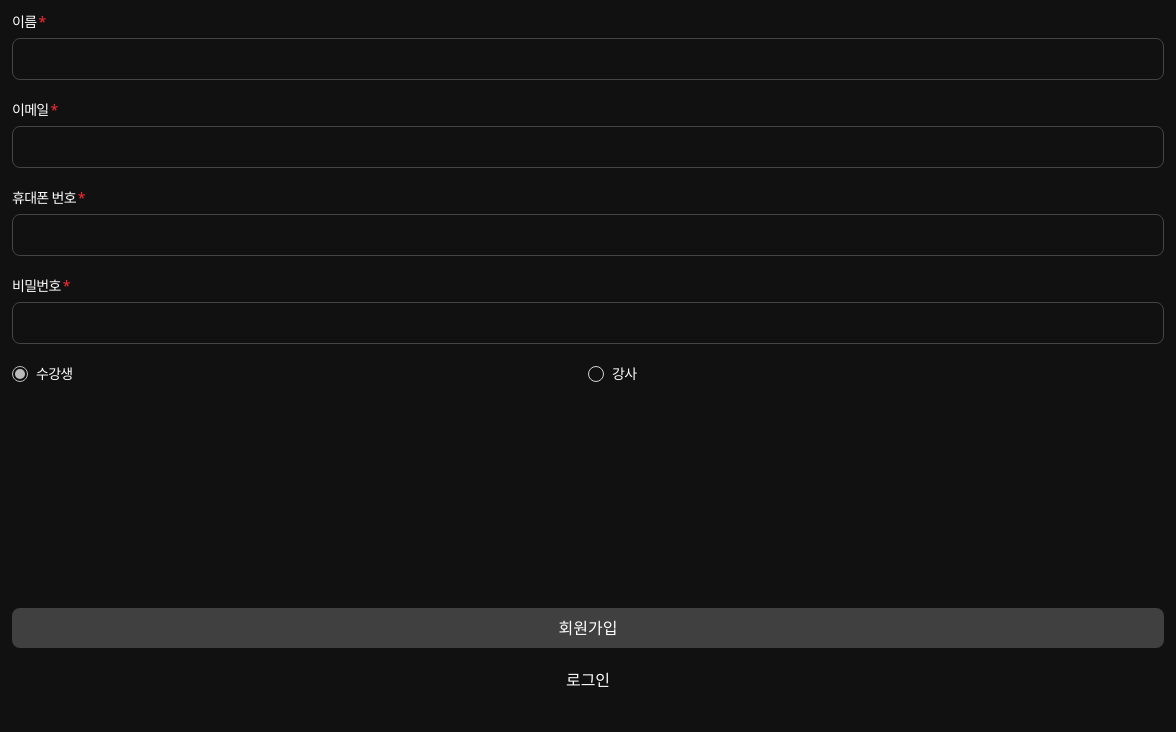
Test: 시나리오 2: 회원가입 (/signup) › 유효성 검사 › 이메일 형식이 올바르지 않으면 에러 메시지를 보여준다
Type "홍길동" into the field labelled "이름*".
click(588, 59); type("홍길동")  # box [12,38,1164,80]
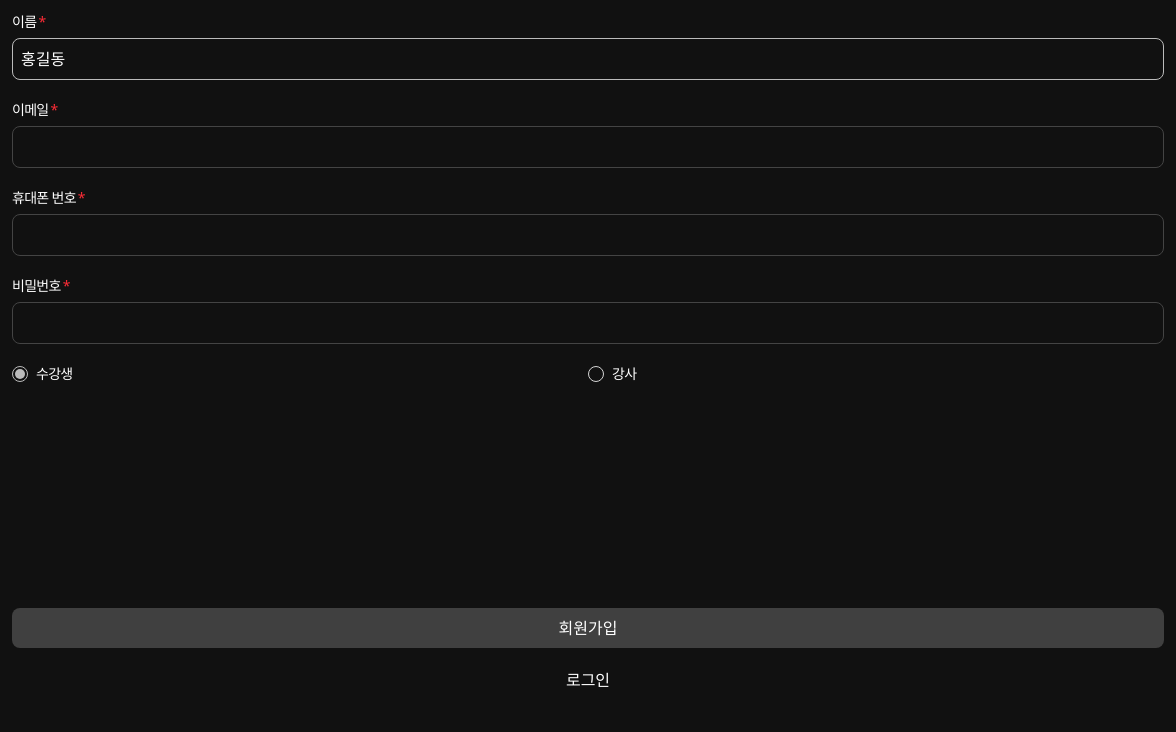
Type "invalid" into the field labelled "이메일*".
click(588, 147); type("invalid")  # box [12,126,1164,168]
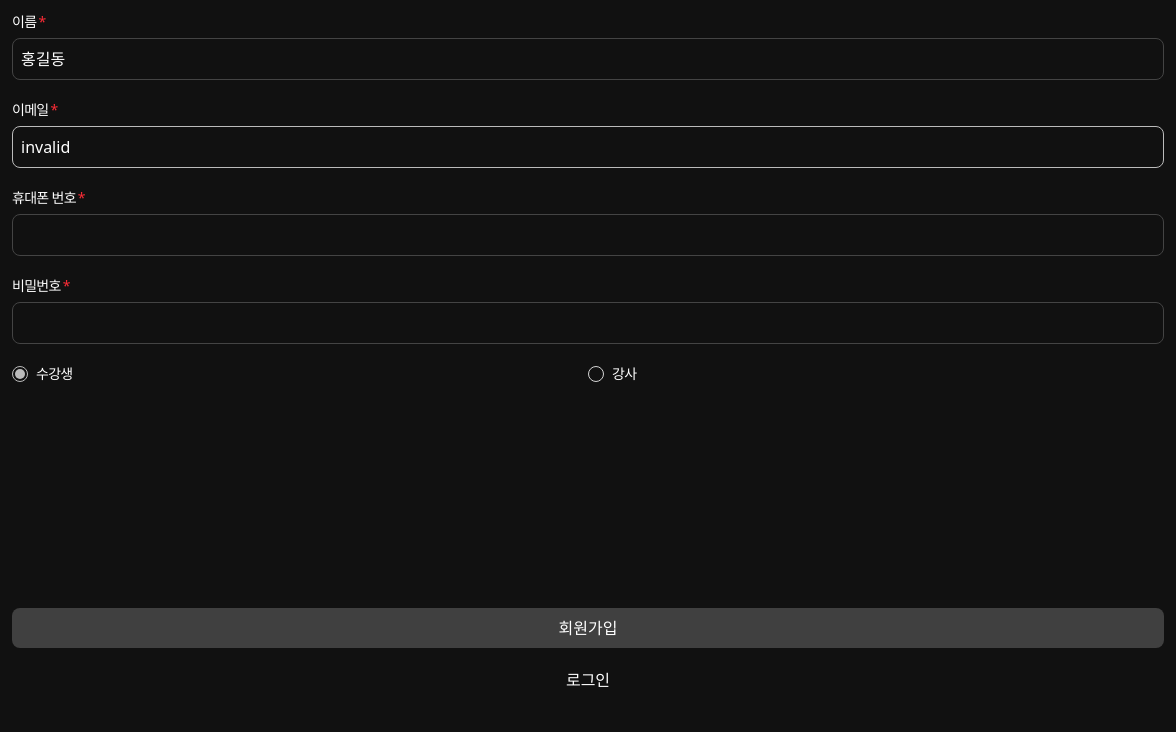
Type "010-1234-5678" into the field labelled "휴대폰 번호*".
click(588, 235); type("010-1234-5678")  # box [12,214,1164,256]
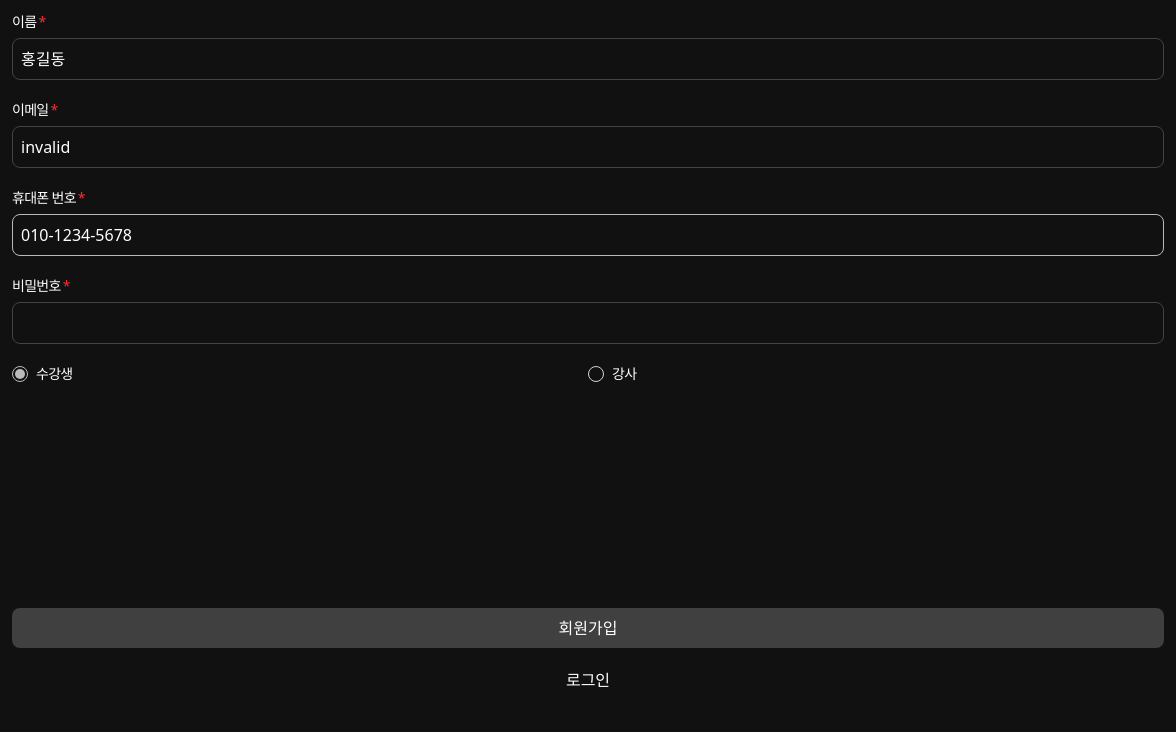
Type "pass1word" into the password field labelled "비밀번호*".
click(588, 323); type("pass1word")  # box [12,302,1164,344]
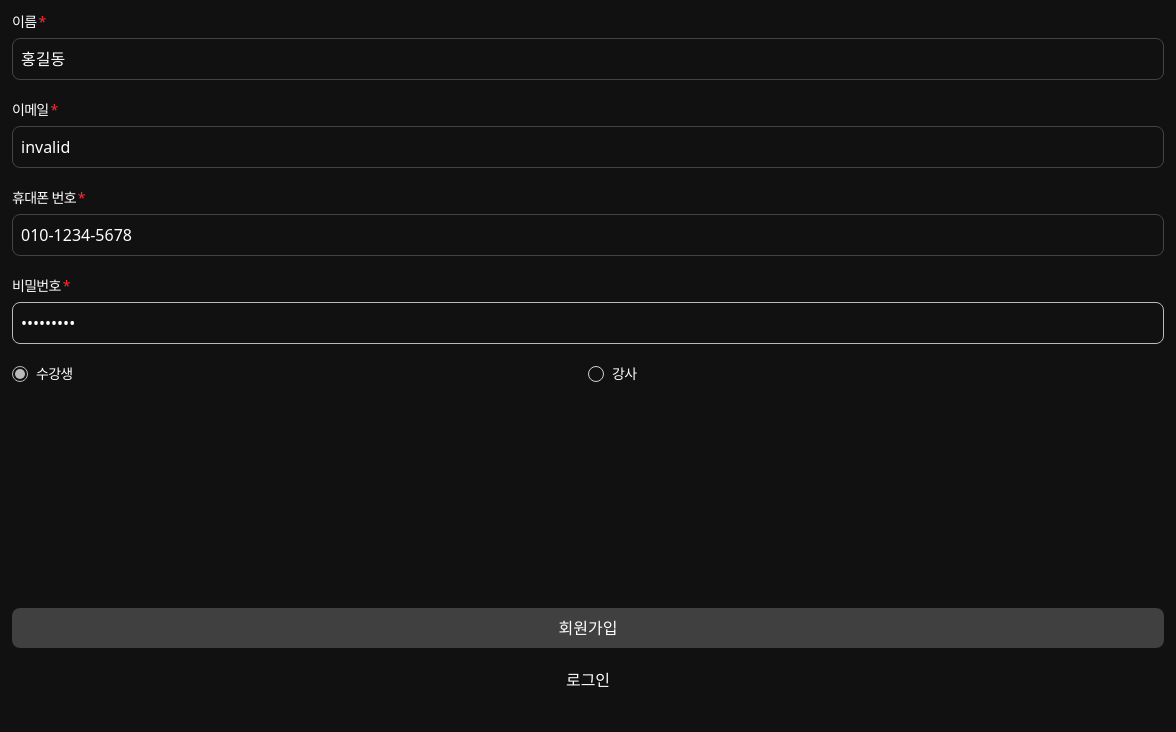
Click the button "회원가입".
click(588, 628)  # box [12,608,1164,648]
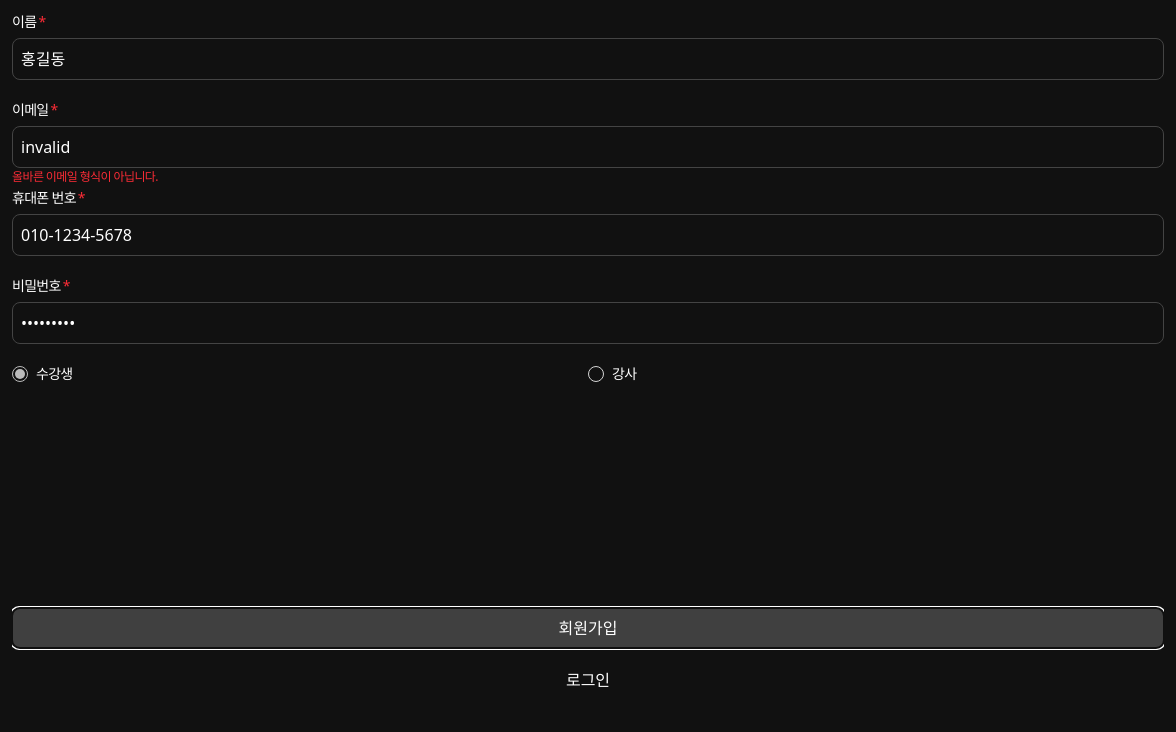
Expected: the text "올바른 이메일 형식이 아닙니다." is shown, [12,168,158,186]
